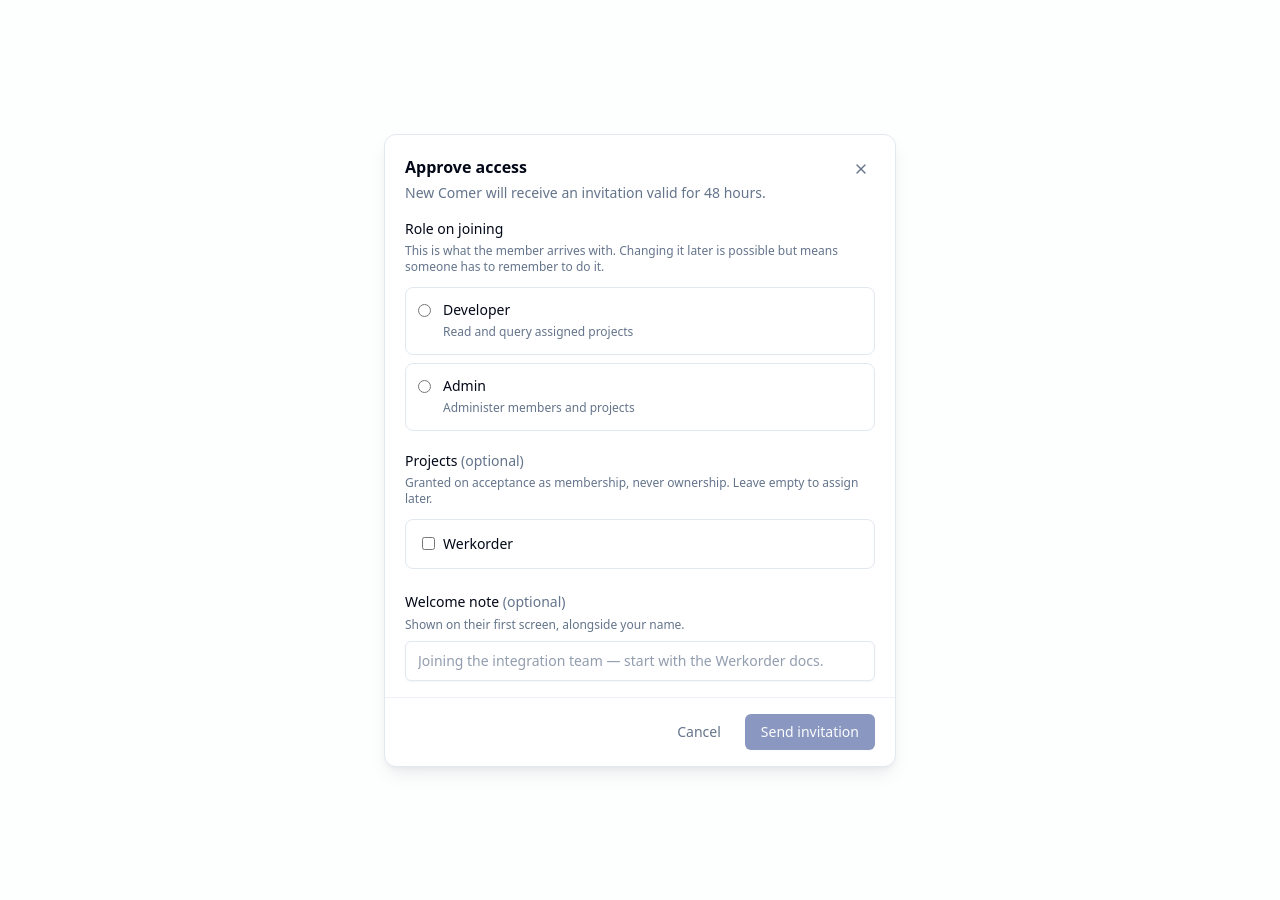
Test: ApproveAccessDialog › warns that an administration role grants member administration
The image size is (1280, 900).
Click the text "developer". click: x=477, y=309
box: [443, 300, 510, 318]
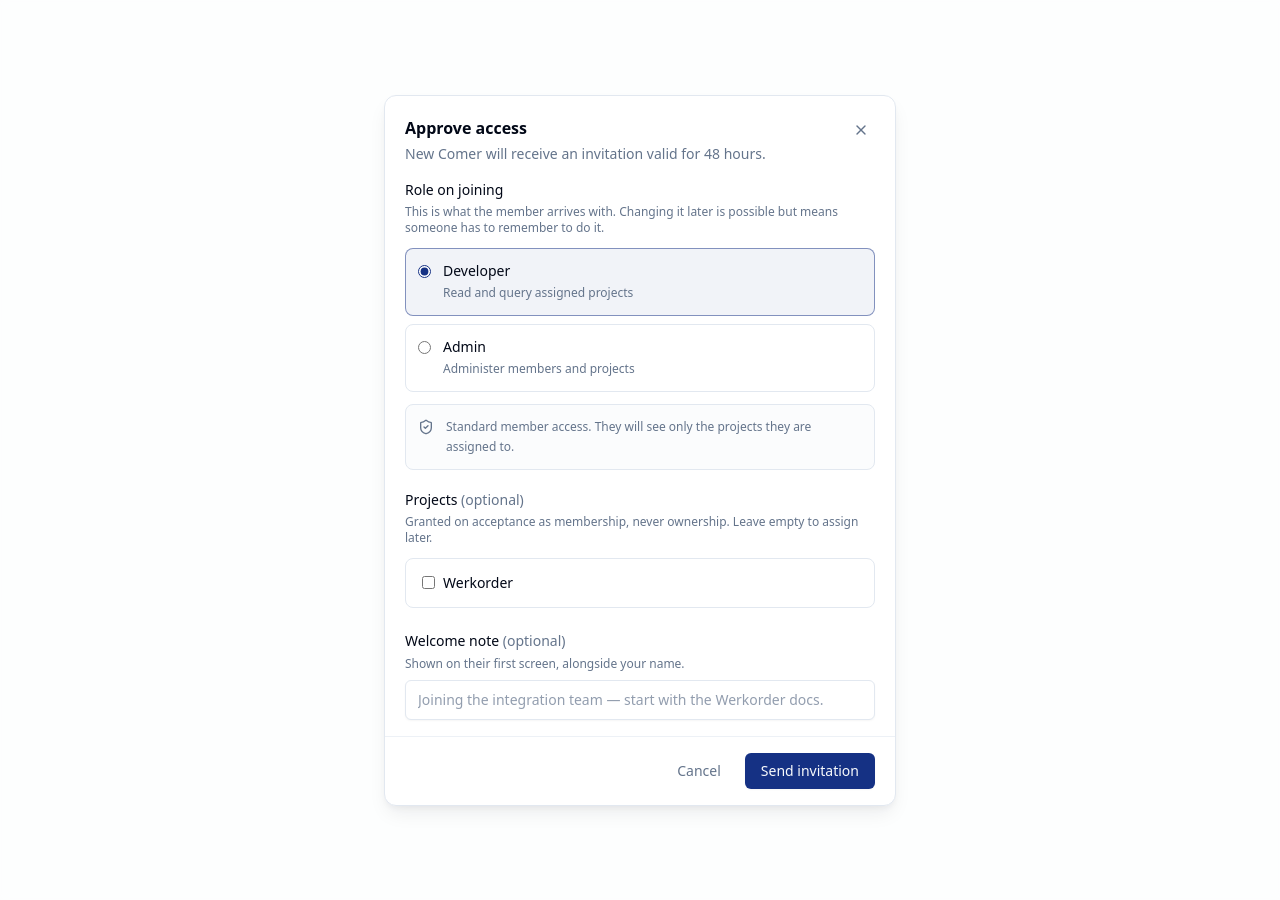
Expected: the text "Standard member access" is shown, [446, 418, 811, 454]
Click the text "admin". click: x=464, y=346
box: [443, 336, 486, 356]
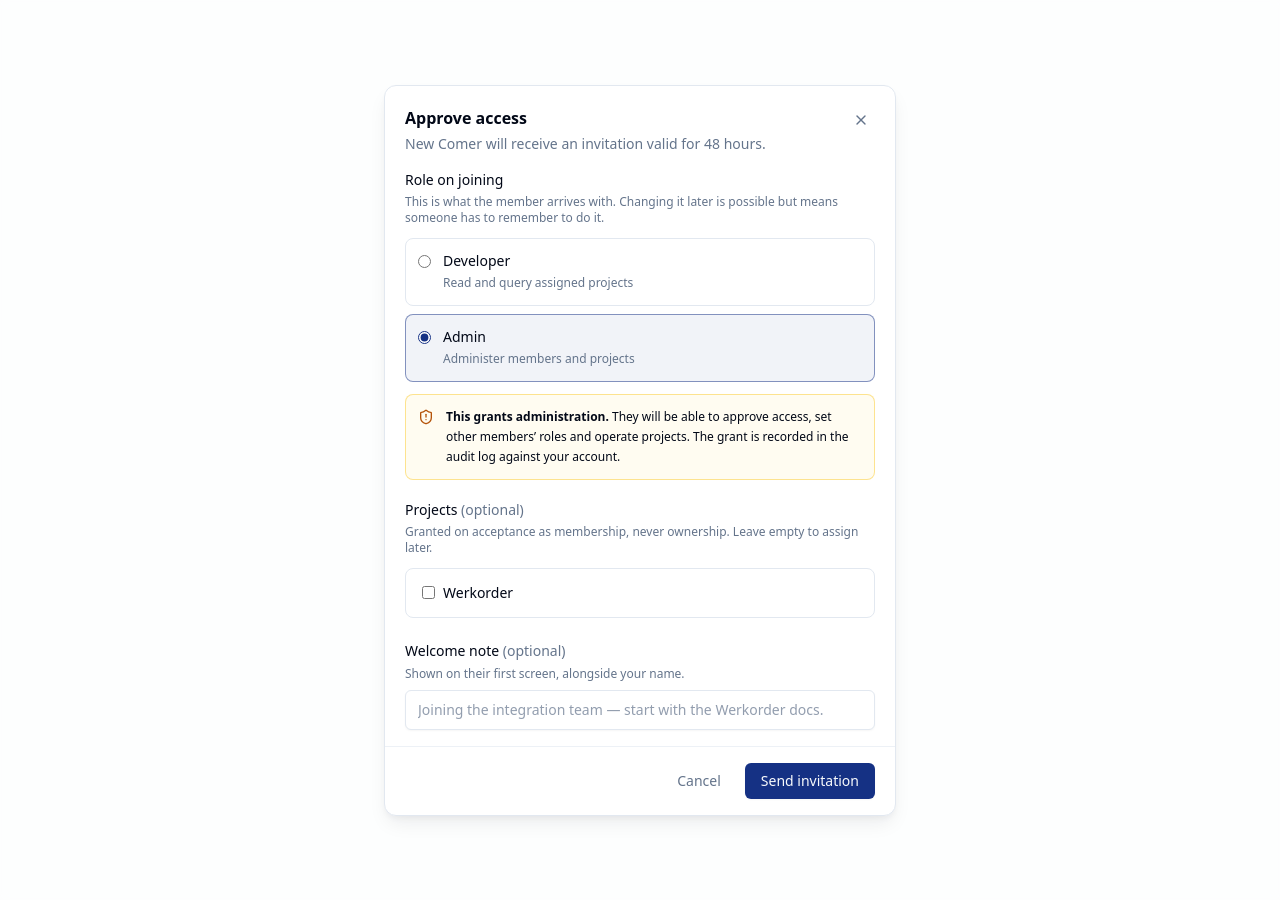
Expected: the text "This grants administration." is shown, [446, 408, 609, 424]
Expected: the text "recorded in the audit log" is shown, [446, 408, 849, 464]
